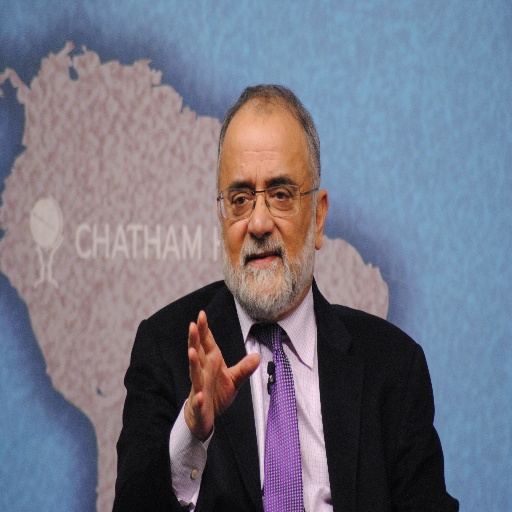hand: (179, 308, 244, 438)
